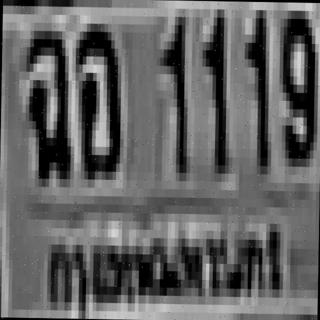A09: (21, 22, 69, 179)
A43: (72, 23, 120, 172)
N01: (200, 5, 228, 170), (158, 8, 186, 173), (241, 6, 268, 170)
N09: (278, 2, 316, 159)
P04: (41, 213, 290, 318)
